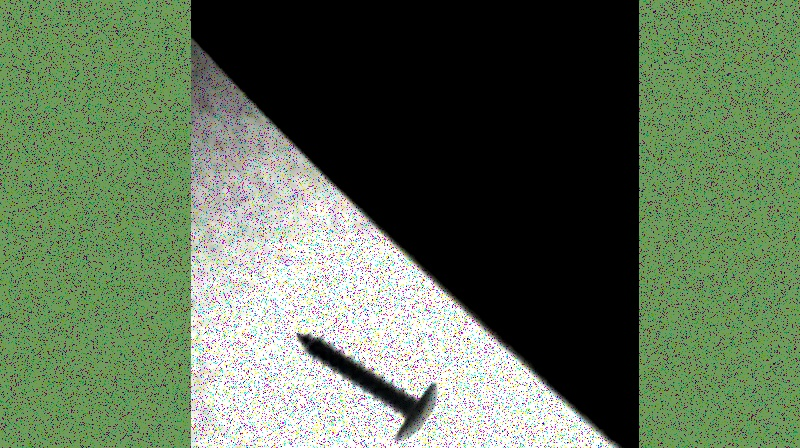S003: (291, 327, 442, 443)
